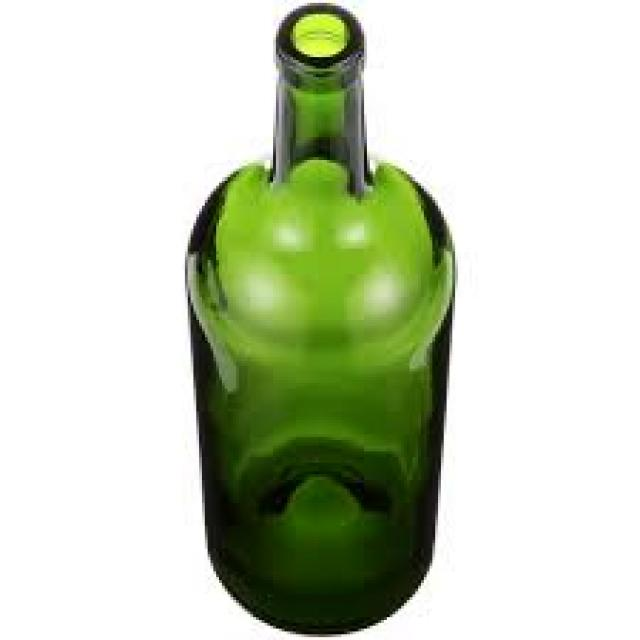Glass: (177, 0, 461, 640)
